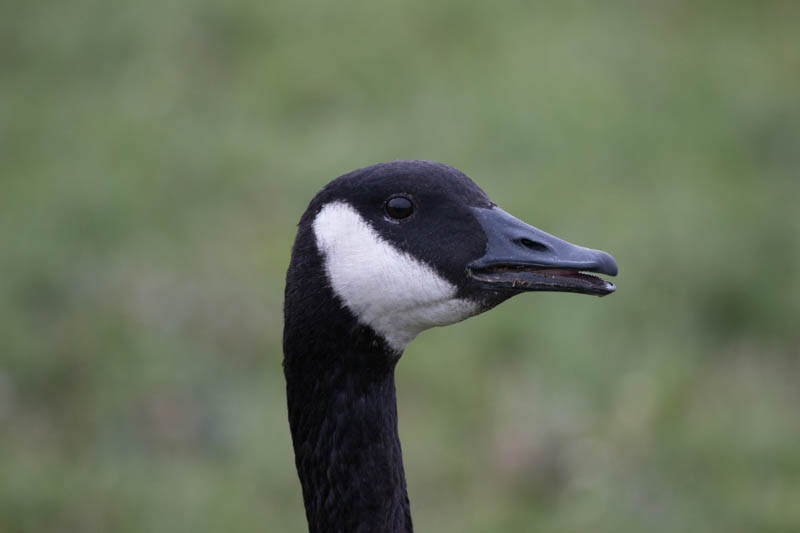goose-head: (285, 160, 619, 358)
